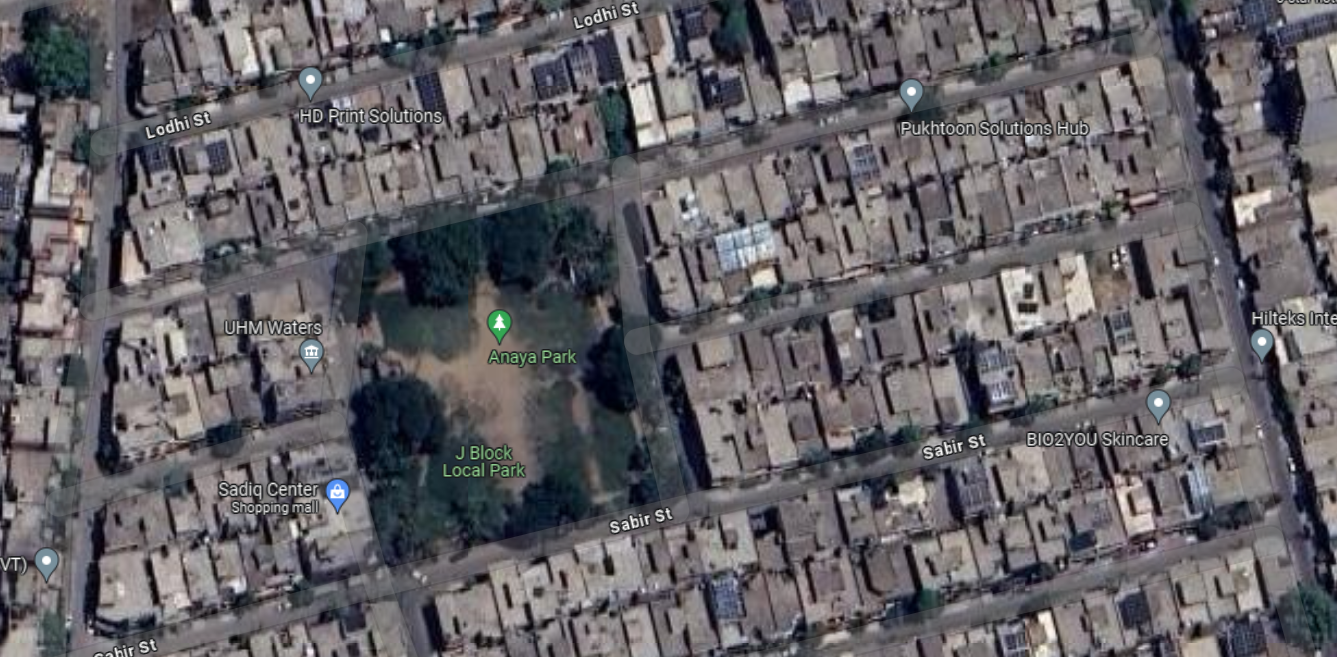solar-panel: (975, 350, 1022, 392), (410, 77, 451, 119), (532, 51, 569, 97), (1278, 15, 1337, 42), (853, 145, 888, 180), (1117, 594, 1152, 627), (1233, 621, 1265, 657), (210, 136, 237, 173), (957, 467, 986, 499), (1003, 631, 1034, 657), (1189, 475, 1214, 507), (1240, 1, 1278, 22), (142, 152, 172, 176), (784, 4, 815, 24), (1117, 313, 1133, 346), (1196, 425, 1222, 445), (721, 75, 743, 95), (689, 13, 706, 38)
